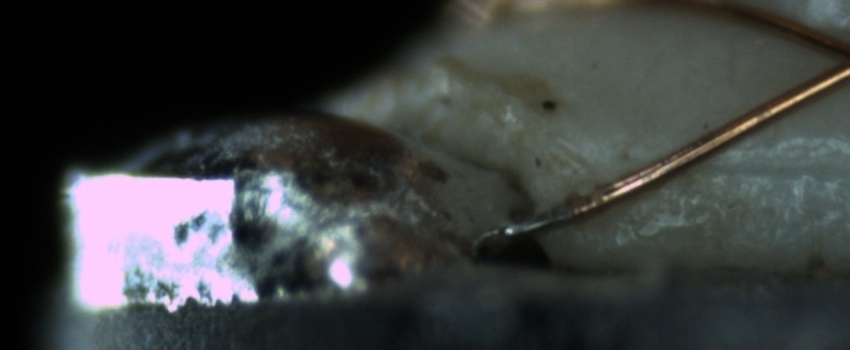CL: (806, 23, 850, 93)
DL: (695, 132, 847, 200)
TS: (493, 199, 576, 242)
